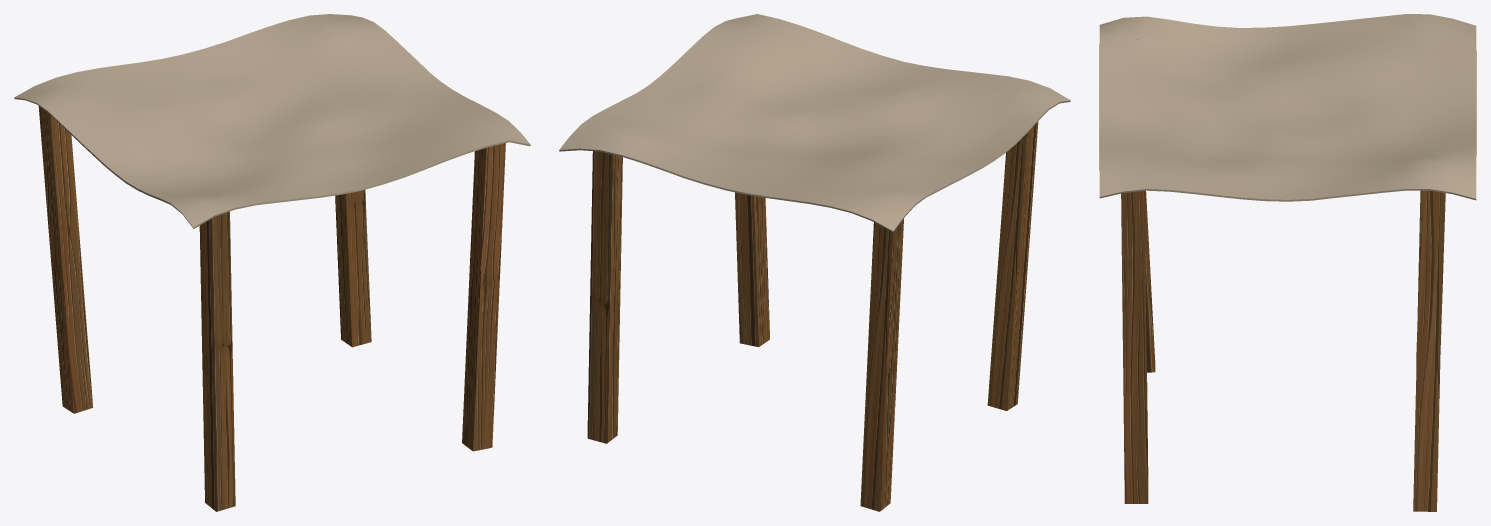
File: cloth cover.fbx
The picture shows the model from 3 angles, left to right: view 1: azimuth 30°, elevation 25°; view 2: azimuth 150°, elevation 25°; view 3: azimuth 270°, elevation 25°; orthographic projection. The views are drawn at different scales.
Visible parts, largest first — view 1: Plane.005, Cube.253, Cube.252, Cube.255, Cube.254; view 2: Plane.005, Cube.254, Cube.255, Cube.252, Cube.253; view 3: Plane.005, Cube.254, Cube.253, Cube.252.
Part boxes in pixels (<box>): Plane.005: <box>14,14,530,228</box>; Cube.253: <box>462,143,505,451</box>; Cube.252: <box>199,197,235,511</box>; Cube.255: <box>38,106,93,413</box>; Cube.254: <box>335,190,371,347</box>; Plane.005: <box>559,14,1070,232</box>; Cube.254: <box>587,151,622,443</box>; Cube.255: <box>860,218,903,511</box>; Cube.252: <box>987,96,1038,410</box>; Cube.253: <box>735,192,769,347</box>; Plane.005: <box>1099,14,1476,201</box>; Cube.254: <box>1413,190,1443,511</box>; Cube.253: <box>1121,191,1148,503</box>; Cube.252: <box>1137,39,1155,372</box>.
Bounding box in the file's own units: 881 × 793 × 811.
